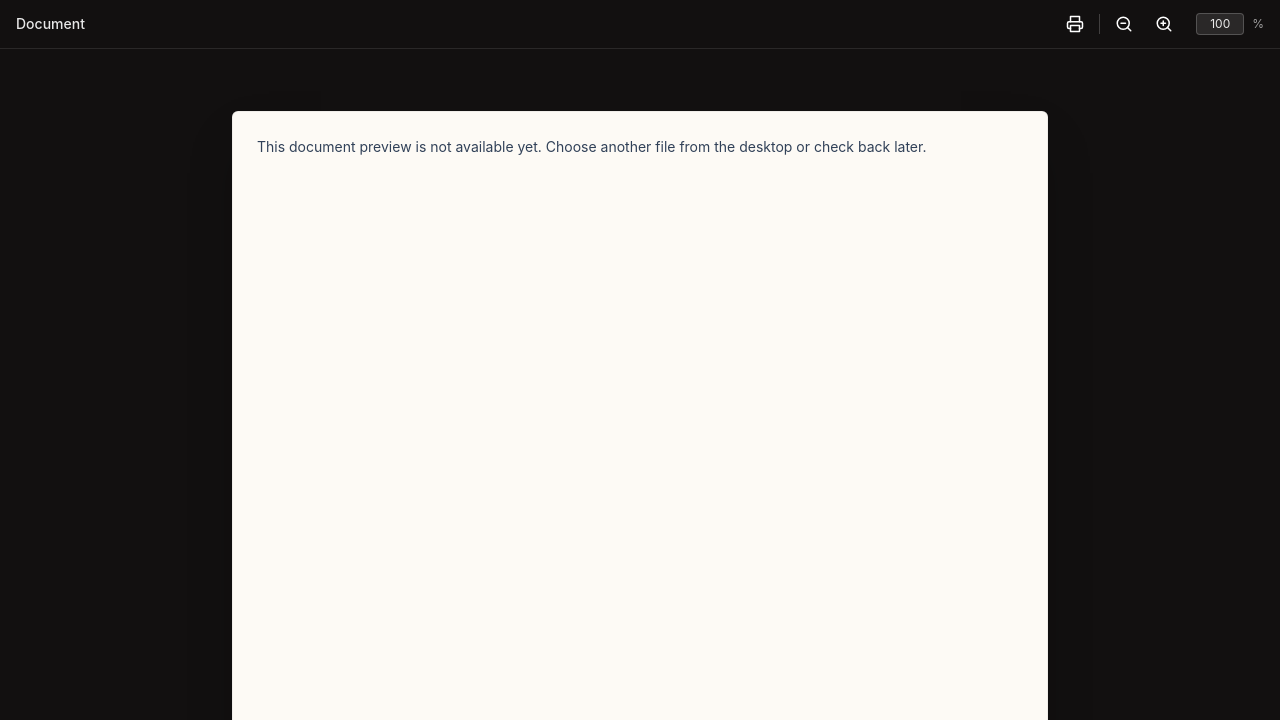
Test case: <PDFViewer /> › should zoom out when zoom out button is clicked
Expected: the field named "Zoom percentage" holds "100", [1196,13,1244,35]
Click the button named "Zoom out": [1124, 24] box [1108,8,1140,40]
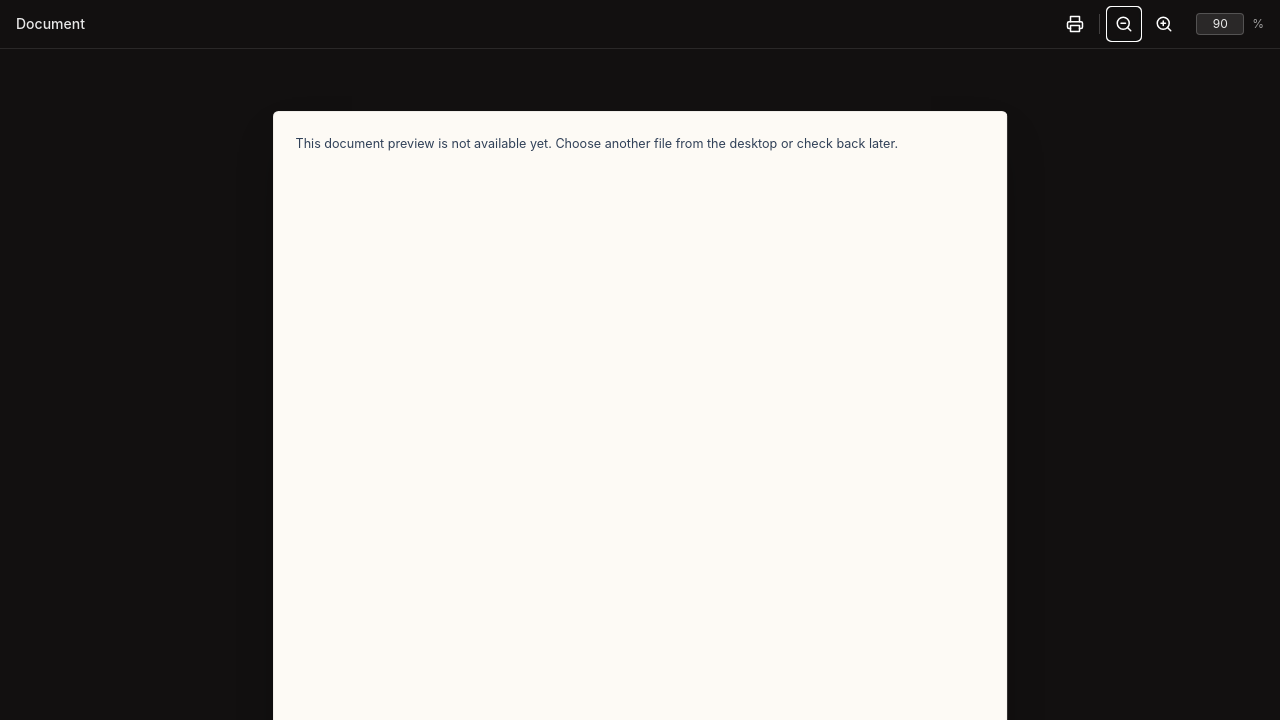
Expected: the field named "Zoom percentage" holds "90", [1196,13,1244,35]
